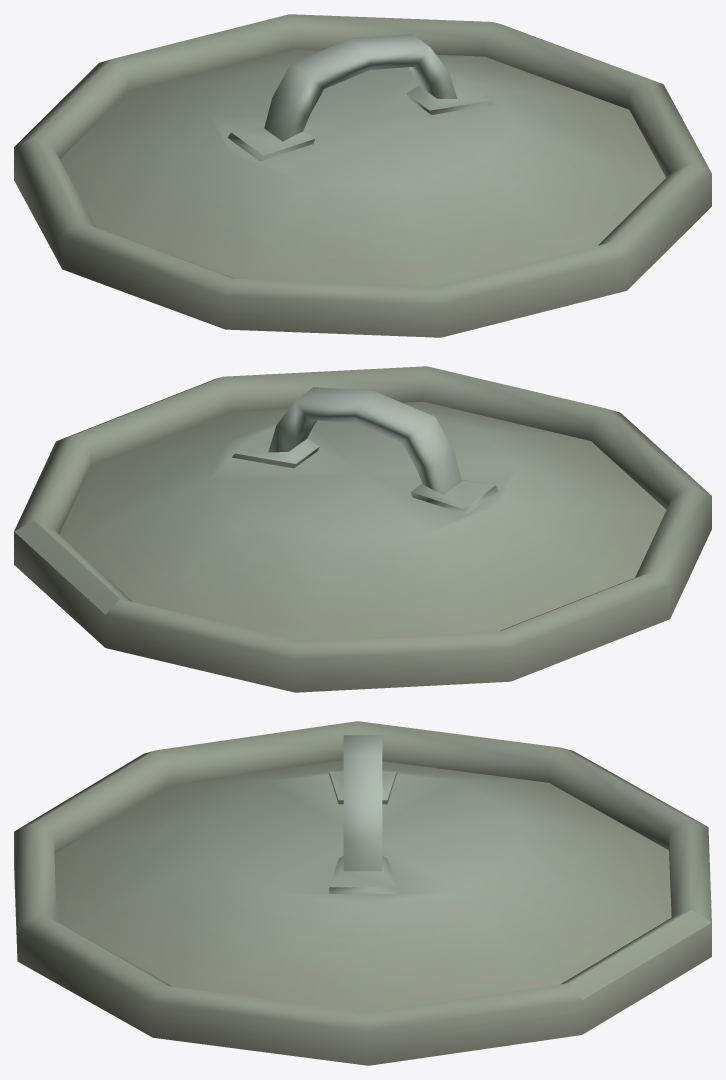
Rendered from SM_Pan_Lid_Big_02.fbx.
3 renders of one model, top to bottom at view 1: azimuth 30°, elevation 25°; view 2: azimuth 150°, elevation 25°; view 3: azimuth 270°, elevation 25°, orthographic. The views are drawn at different scales.
Parts seen in each view (by area): view 1: SM_Pan_Lid_Big_02; view 2: SM_Pan_Lid_Big_02; view 3: SM_Pan_Lid_Big_02.
Boxes of the visible parts, x1,y1,x2,y2 form: SM_Pan_Lid_Big_02: [14, 14, 711, 337]; SM_Pan_Lid_Big_02: [14, 366, 711, 692]; SM_Pan_Lid_Big_02: [14, 721, 711, 1065].
Size of the model in its own units: 33.35 by 7.82 by 31.87.
